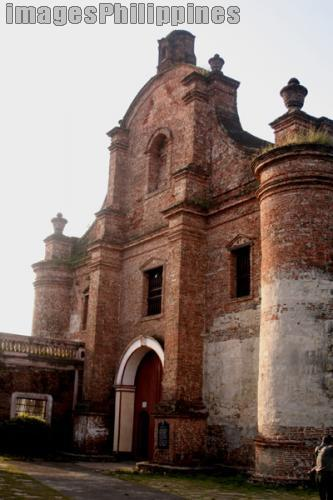Environmental Damage: (252, 126, 333, 150)
Sta. Maria Church: (34, 26, 333, 474)
Unfinished Paint: (201, 272, 333, 438)
